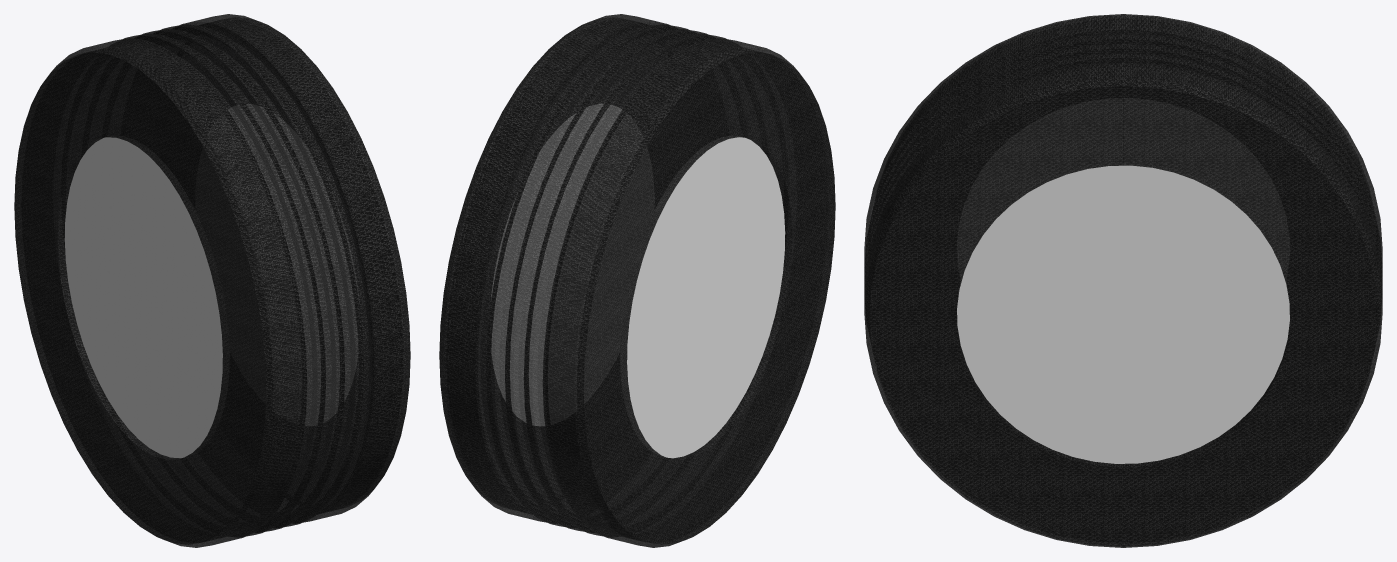
File: wheel.obj
The picture shows the model from 3 angles, left to right: view 1: azimuth 30°, elevation 25°; view 2: azimuth 150°, elevation 25°; view 3: azimuth 270°, elevation 25°; orthographic projection.
Visible parts, largest first — view 1: Mesh1 Model; view 2: Mesh1 Model; view 3: Mesh1 Model.
Part boxes in pixels (x1,y1,x2,y2): Mesh1 Model: (14,14,410,547); Mesh1 Model: (439,14,835,547); Mesh1 Model: (864,14,1382,547).
Size of the model in its own units: 0.205 by 0.6319 by 0.6319.
